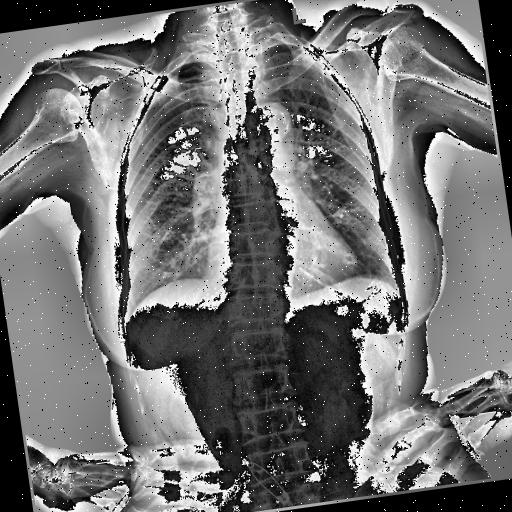0- Aortic enlargement: (246, 98, 298, 160), (248, 102, 297, 146), (245, 99, 296, 141)
11- Pleural thickening: (282, 32, 336, 82), (141, 63, 183, 103), (294, 38, 329, 76)
3- Cardiomegaly: (201, 224, 361, 298)
